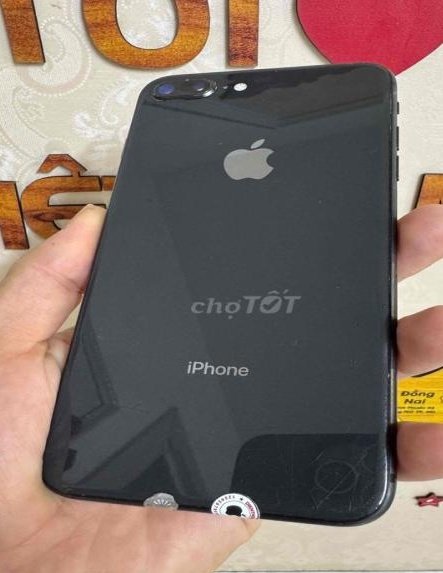scratch: (295, 433, 393, 522), (136, 70, 291, 101)
